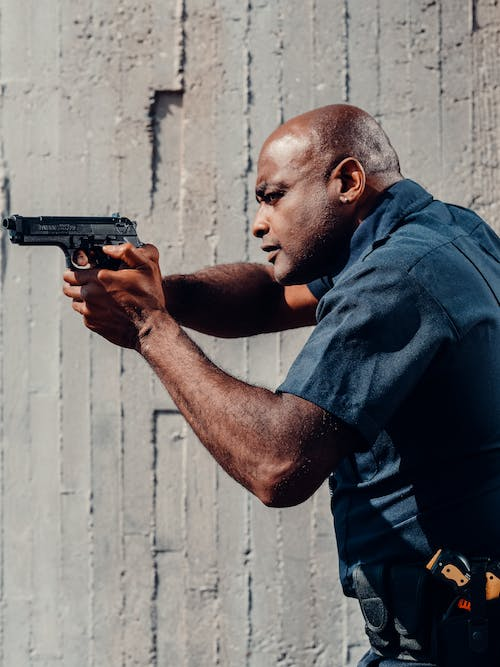gun: (0, 210, 147, 274)
